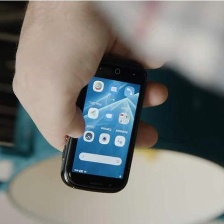phone: (54, 50, 151, 196)
